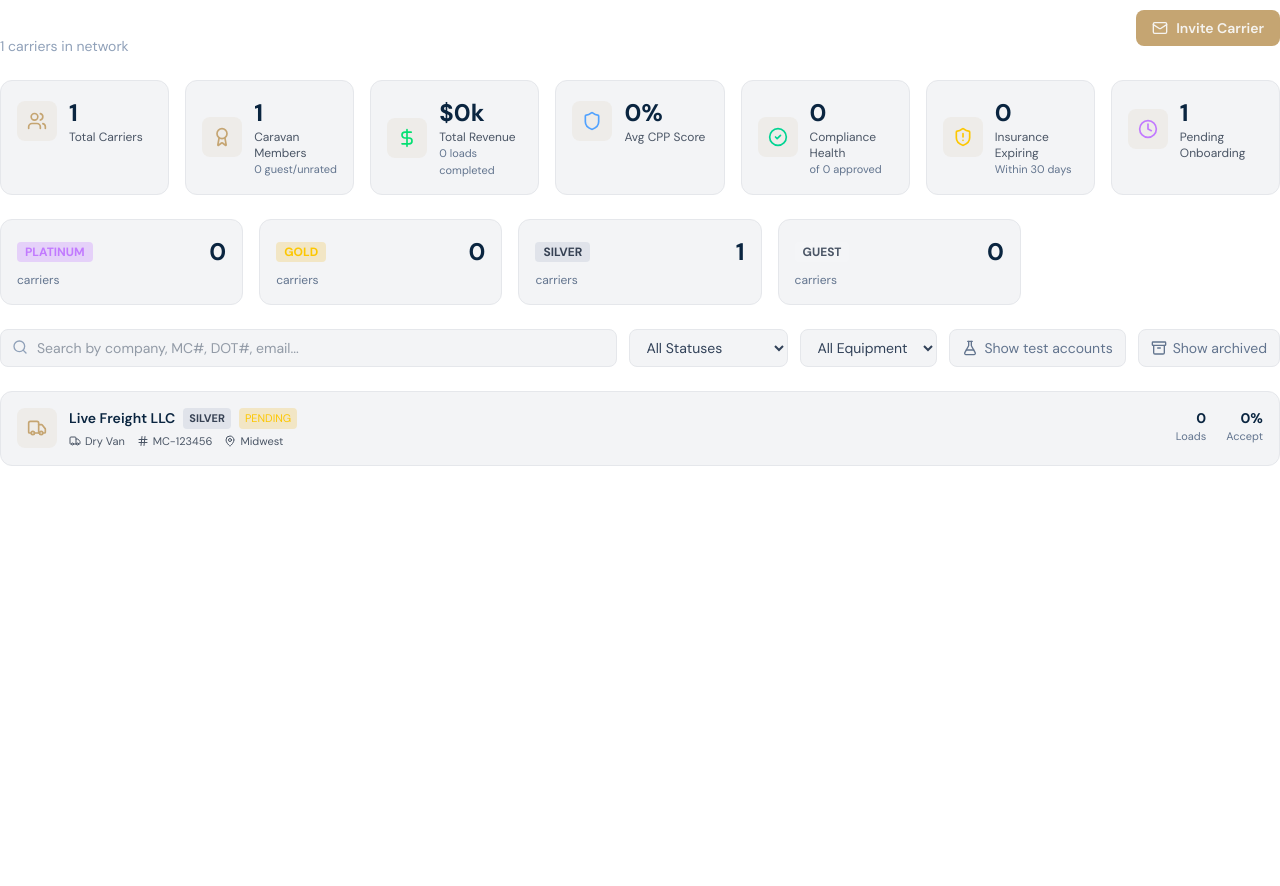
Scenario: Terminating an agreement says what it ends › promises no fee only on loads delivered from now on (v3.8.bly)
This screenshot has width=1280, height=886.
Expected: the text "Live Freight LLC" is shown, [69,408,175,428]
Click the button "Live Freight LLC".
click(37, 428)  # box [0,391,1279,466]
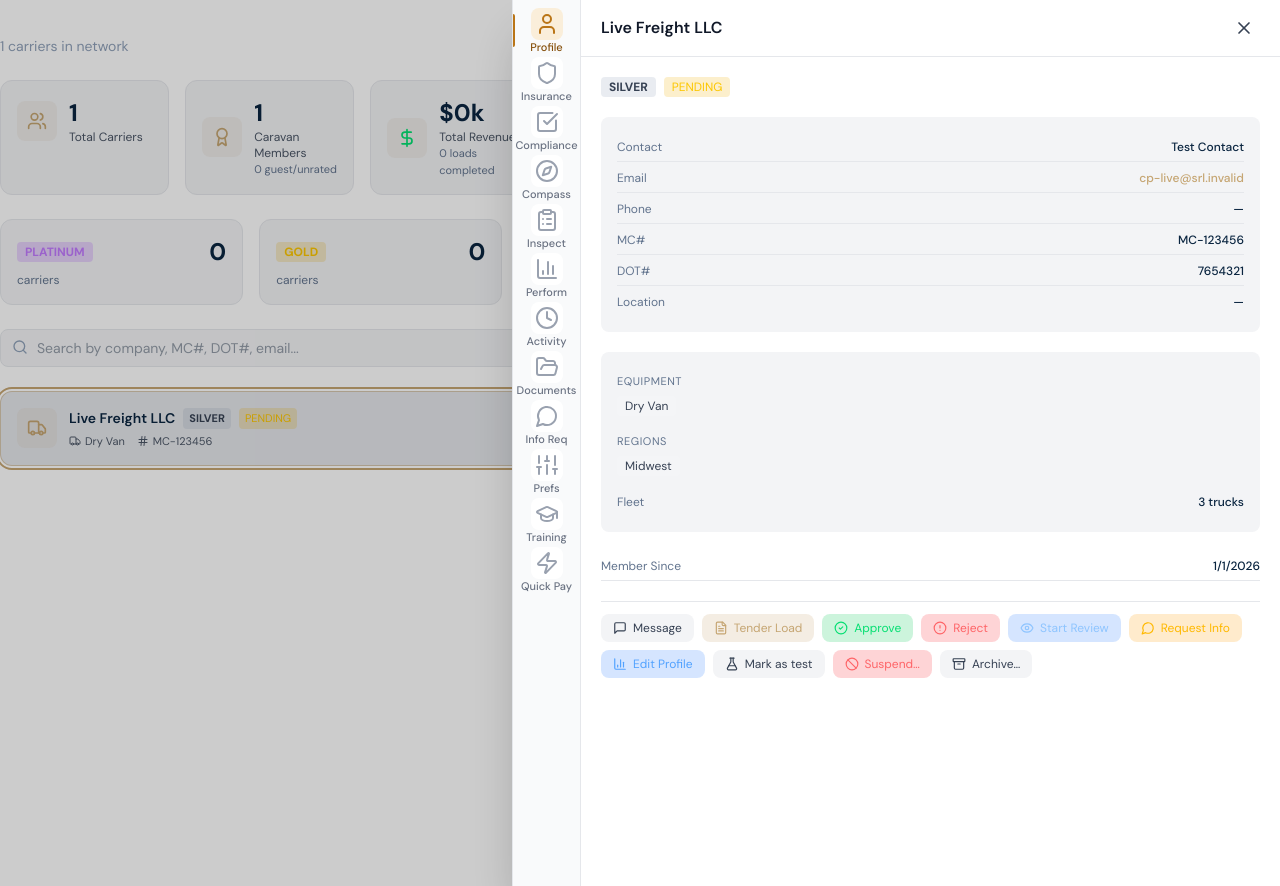
Click the button "Compliance".
click(546, 128)  # box [513,106,580,151]
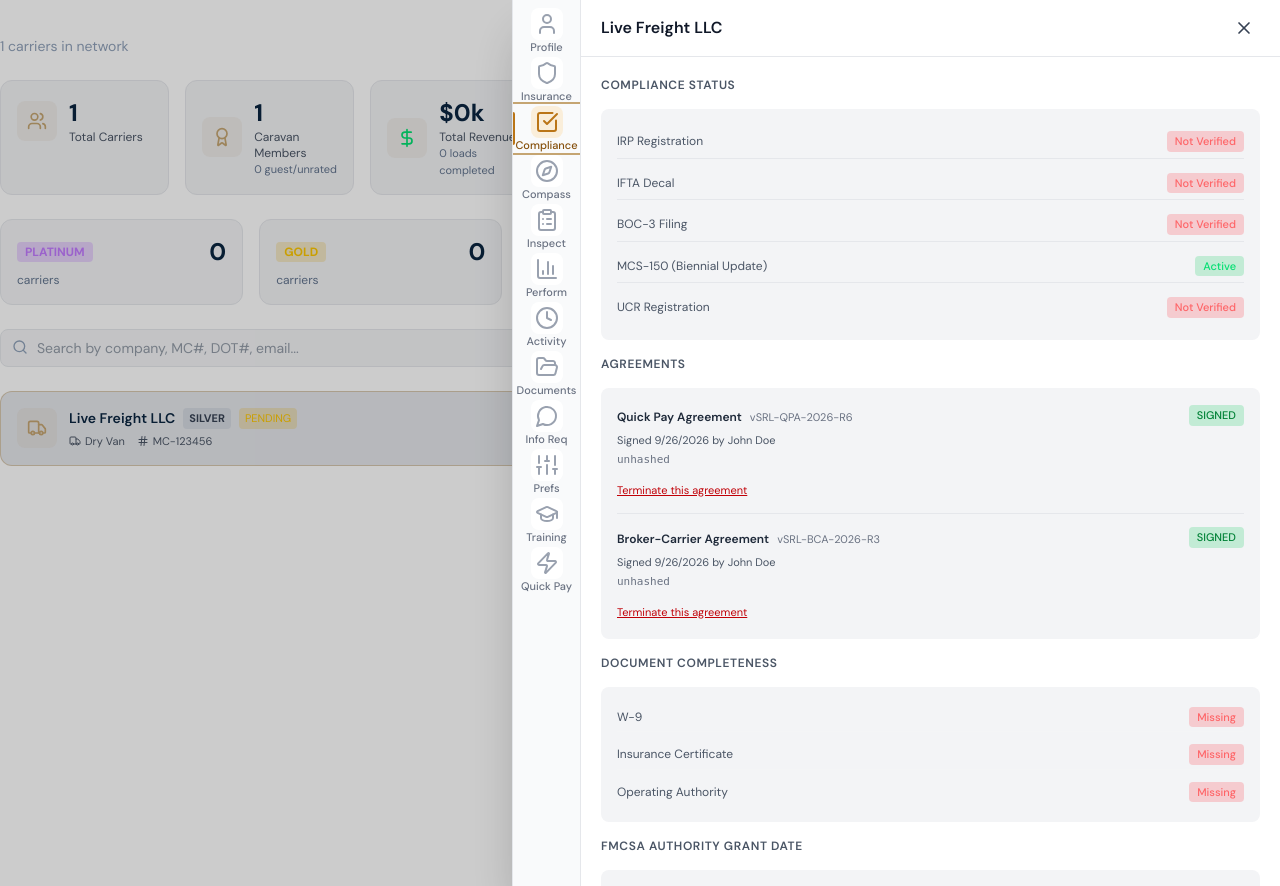
Now the number of buttons "Terminate this agreement" is 2
Click the button "Terminate this agreement" below "Quick Pay Agreement".
click(682, 490)  # box [617,482,747,498]
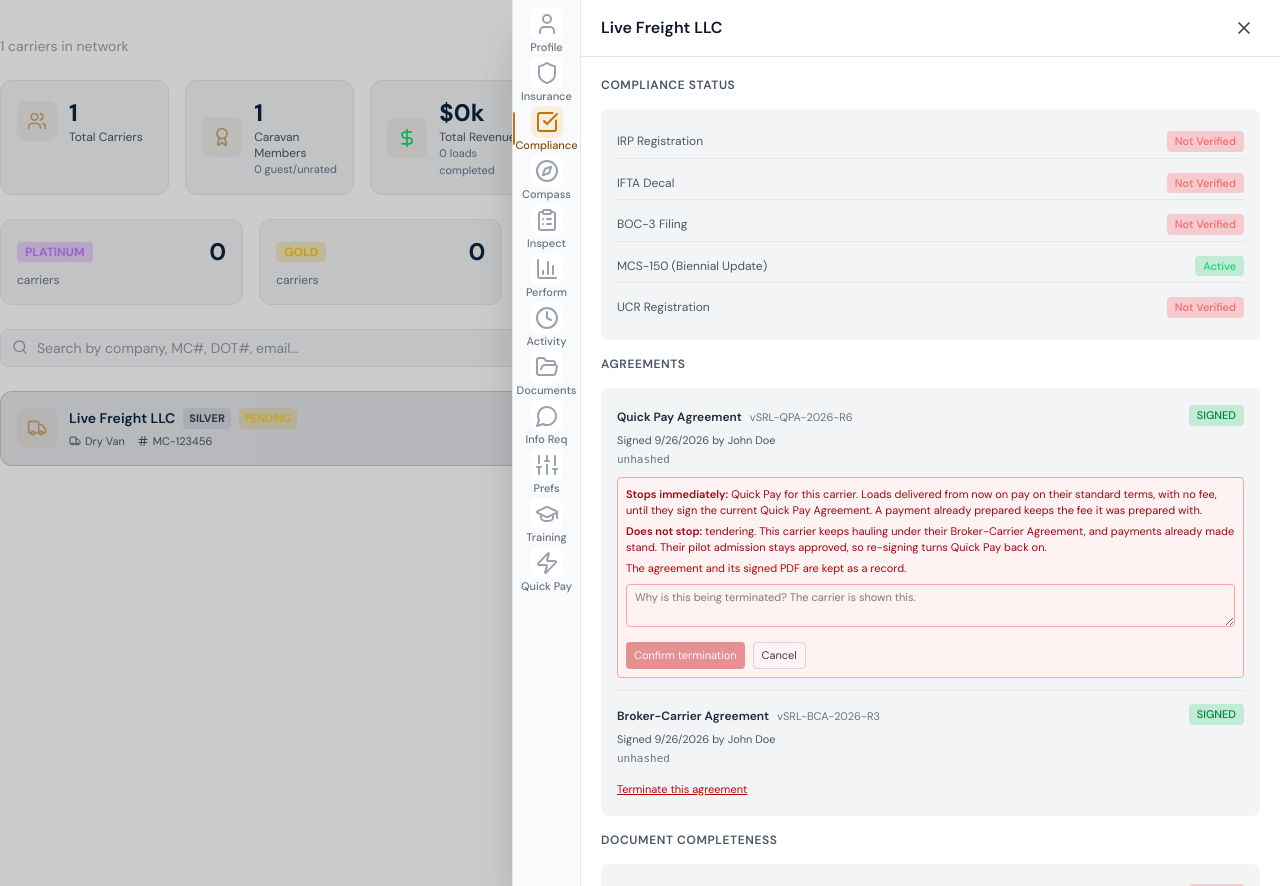
Now the dialog shows "Loads delivered from now on pay on their standard terms, with no fee", box [626,486,1217,517]
Now the dialog shows "A payment already prepared keeps the fee it", box [626,486,1217,517]
